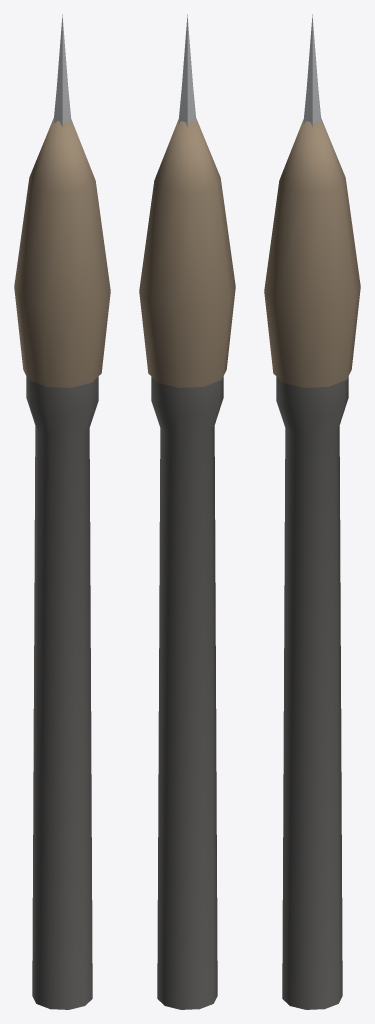
File: iron-brush.glb
3 views of the same model, side by side, from view 1: azimuth 30°, elevation 25°; view 2: azimuth 150°, elevation 25°; view 3: azimuth 330°, elevation 25° (orthographic).
Parts seen in each view (by area): view 1: iron-brush; view 2: iron-brush; view 3: iron-brush.
Part boxes in pixels (x1,y1,x2,y2): iron-brush: (14,14,110,1009); iron-brush: (139,14,235,1009); iron-brush: (264,14,360,1009).
Size of the model in its own units: 0.064 by 0.72 by 0.0609.
